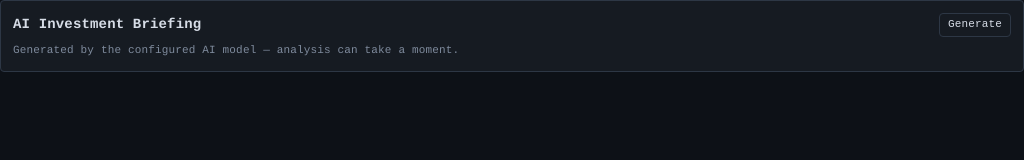
AiVisuals (Libraries.dev wrappers) › insight card shows the orb while generating and names the real model
Later steps or results of the test are not shown.
Click the button "Generate" at coordinates (975, 25), box [939,13,1011,37]
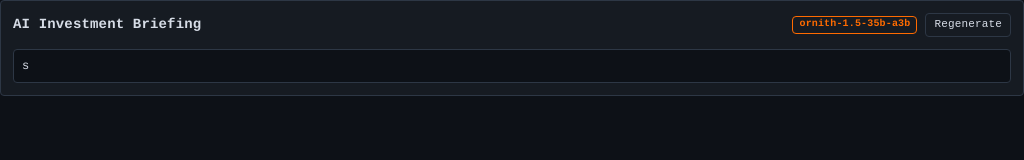
Expected: the text "ornith-1.5-35b-a3b" is shown, [792,16,917,34]
